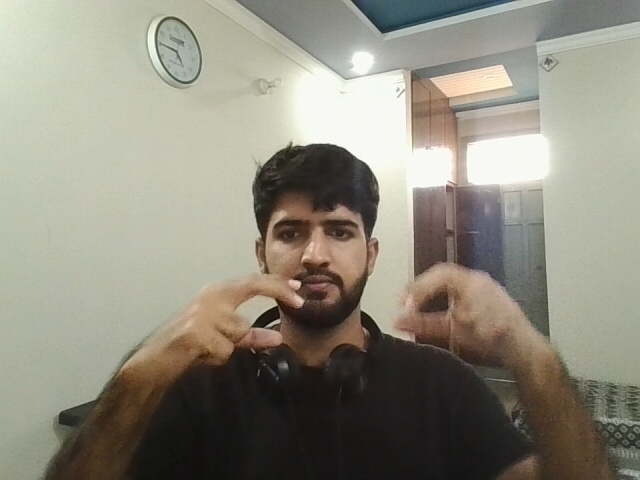No: (179, 260, 313, 381)
